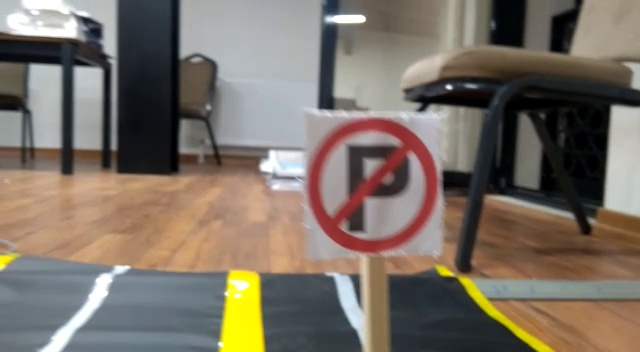park_yapilmaz: (307, 108, 441, 250)
